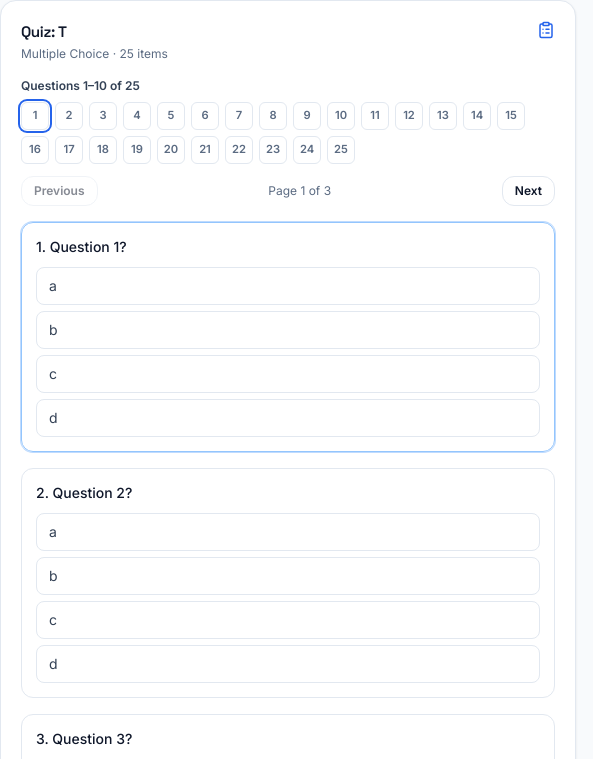
it: QuizCard — long quiz taking (navigator + pagination) › tapping a navigator number jumps straight to that question's page
What coordinates should you click on to do the following:
click the button named "Question 23,"
I would click on:
 (273, 150)
Its box is [259, 136, 287, 164].
(page scrolled)
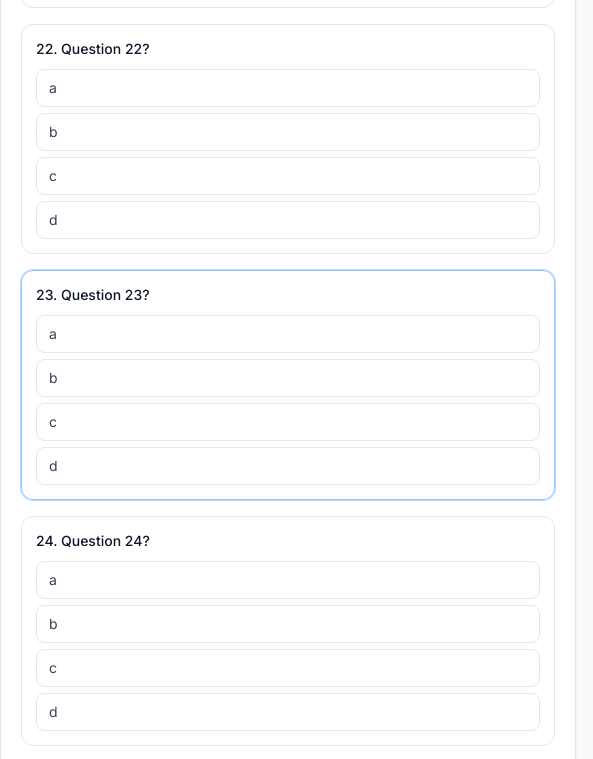
Result: the text "23. Question 23?" is shown at [36, 286, 150, 303]
